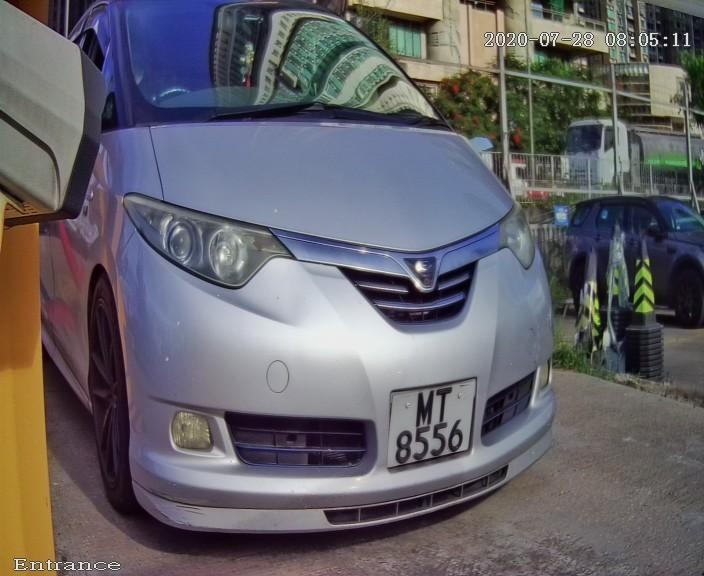privatecar: (32, 6, 617, 569)
